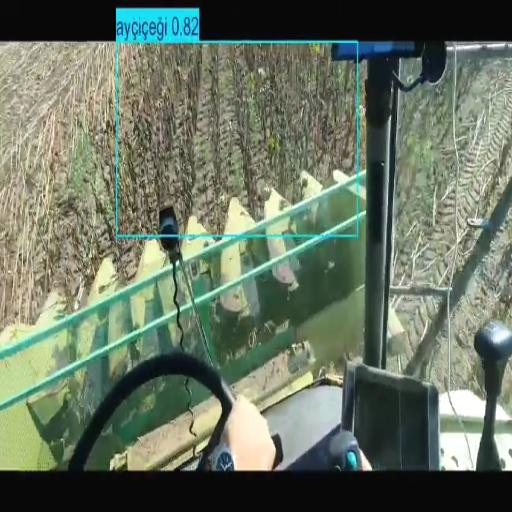ayc: (120, 46, 354, 232)
